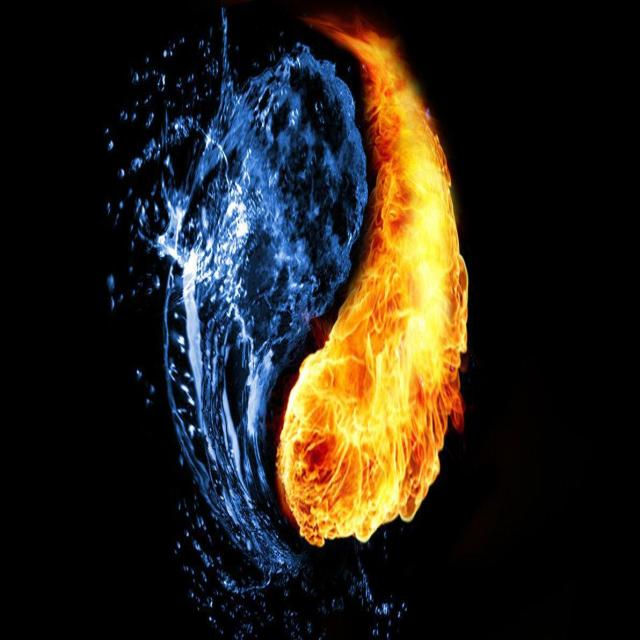fire: (274, 14, 475, 559)
